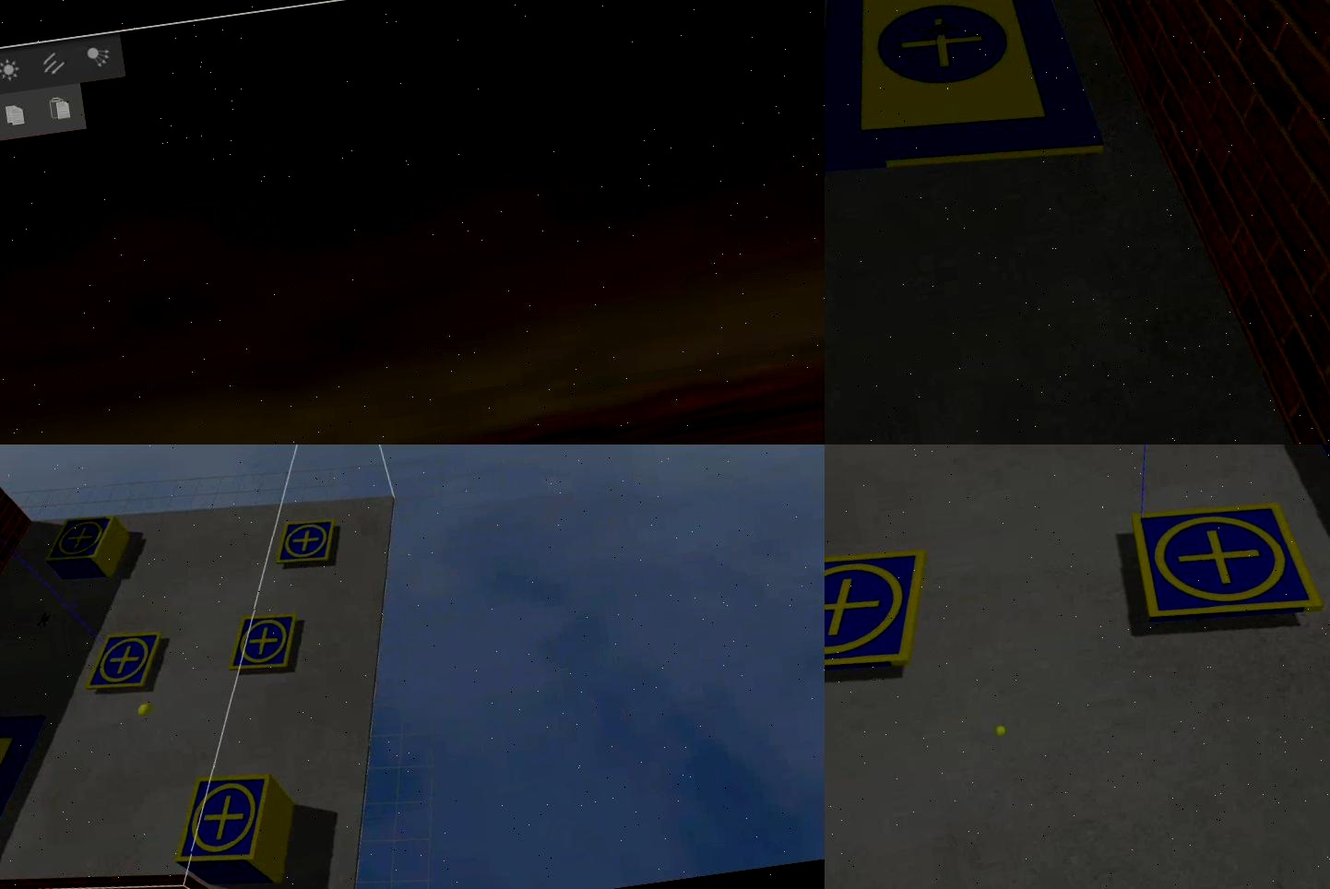large_base: (825, 1, 1109, 192), (1, 705, 65, 889)
small_base: (1126, 488, 1325, 639), (825, 542, 942, 698), (170, 769, 283, 868), (225, 609, 311, 680), (81, 630, 172, 692), (268, 513, 344, 571), (43, 512, 120, 564)
